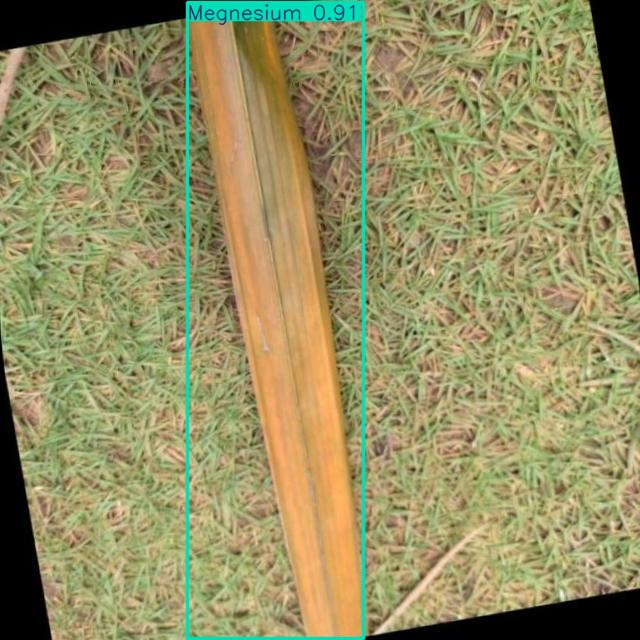Megnesium: (187, 2, 364, 639)
